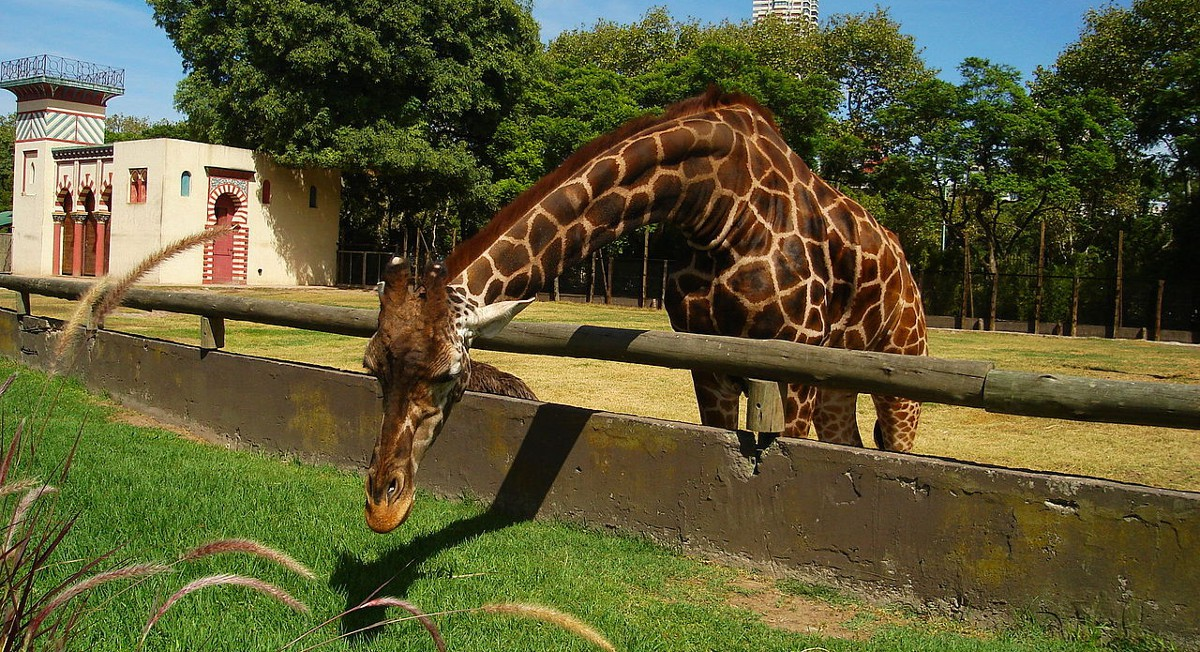Jirafa: (317, 228, 566, 537)
